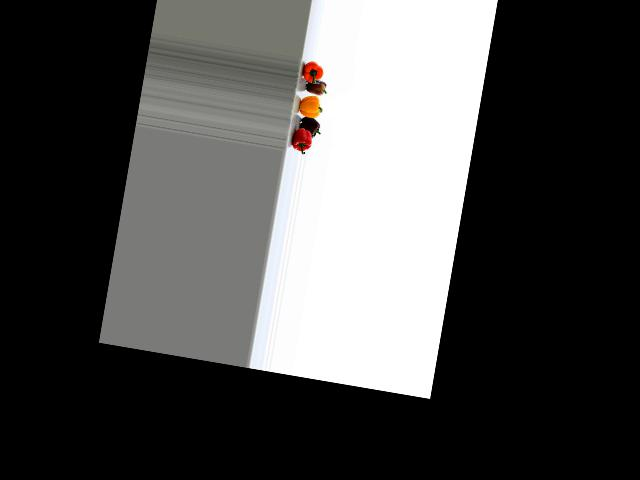bell_pepper: (298, 59, 331, 86)
